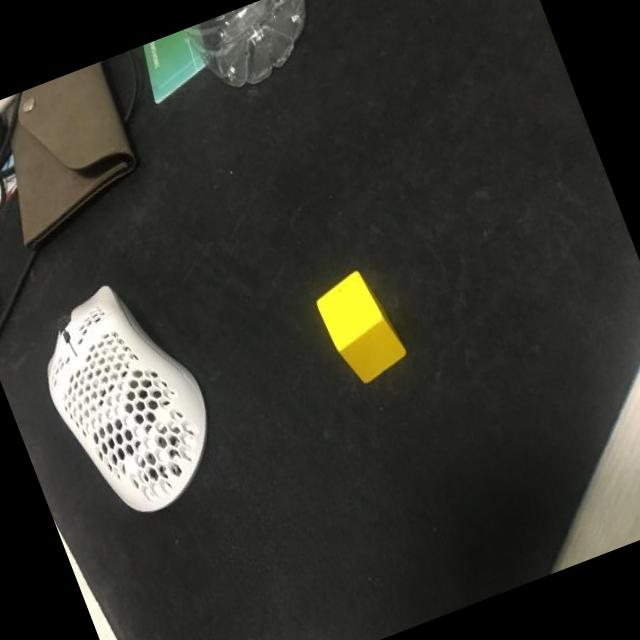yellow: (311, 265, 414, 391)
